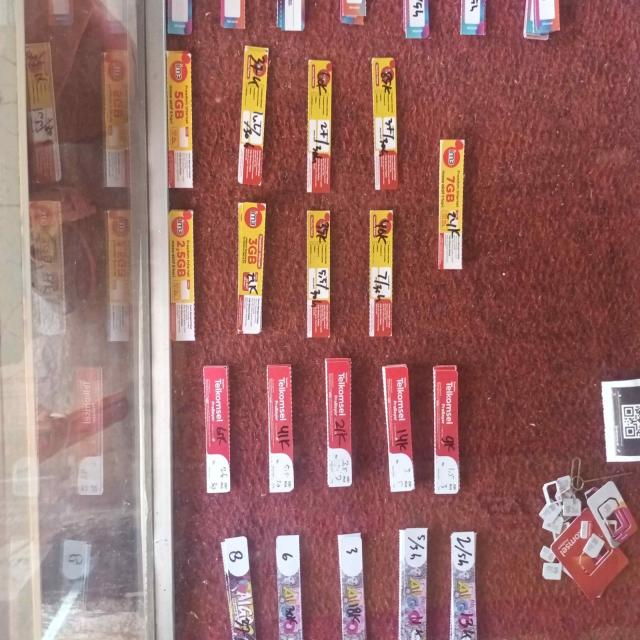Axis: (218, 533, 260, 640), (271, 530, 308, 640), (334, 528, 371, 636), (398, 527, 428, 640), (450, 532, 480, 638), (519, 0, 563, 39), (161, 0, 195, 38), (215, 0, 253, 32), (272, 0, 310, 31), (402, 0, 432, 36), (459, 0, 491, 33), (336, 0, 373, 25)
Indosat: (235, 42, 272, 186), (166, 46, 198, 193), (234, 199, 269, 333), (167, 210, 202, 342), (305, 57, 335, 196), (439, 135, 467, 274), (373, 57, 400, 191), (307, 210, 333, 338), (371, 208, 395, 342)
Telkomsel: (264, 358, 300, 495), (199, 360, 235, 496), (382, 362, 416, 492), (432, 362, 465, 494), (323, 354, 355, 489)
